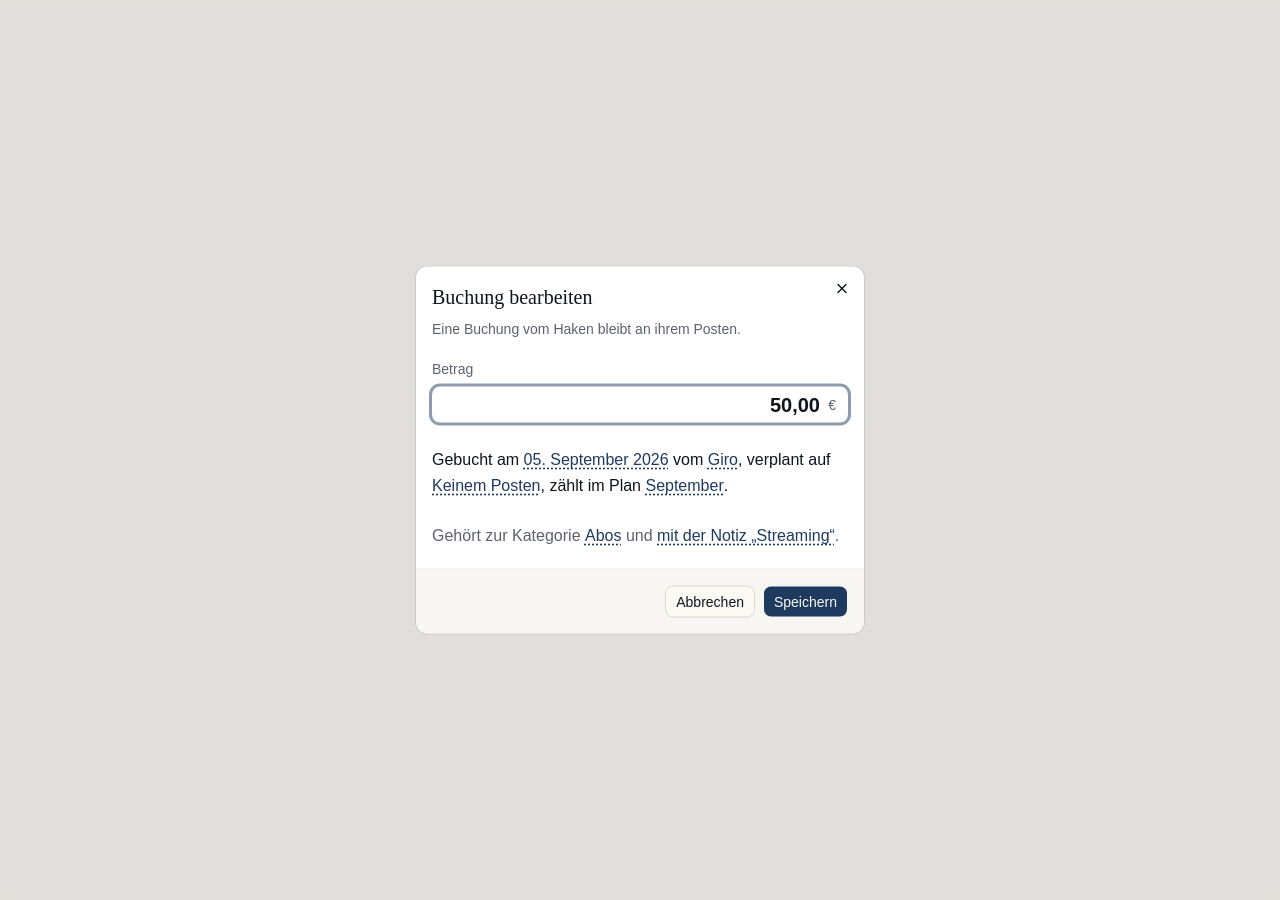
Scenario: BookingDialog edit sentence › picking a position closes its panel and gives the focus back to the word
Click the button "Keinem Posten". click: (486, 486)
box: [430,472,542,498]
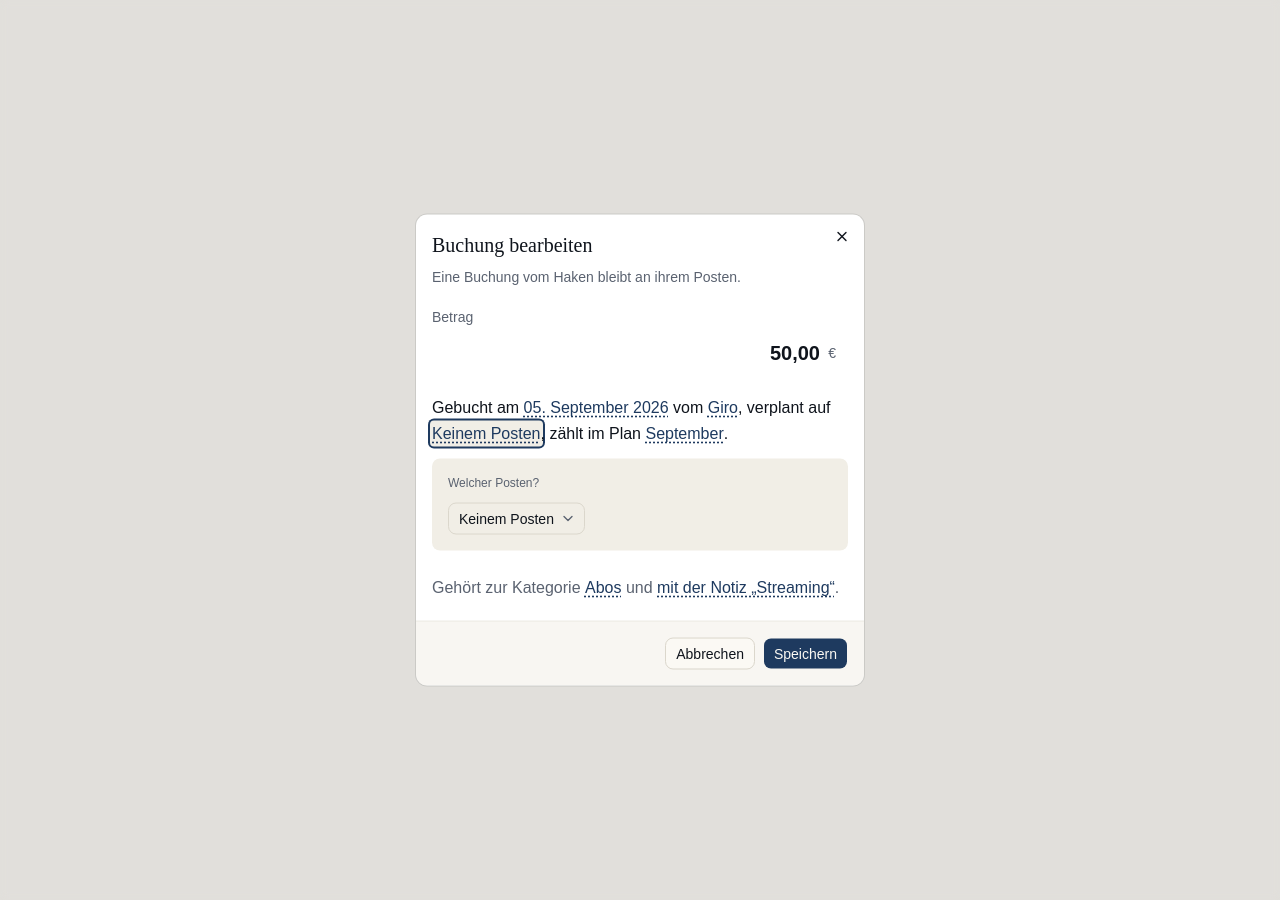
Click the dropdown. click: (516, 518)
box: [448,502,585,534]
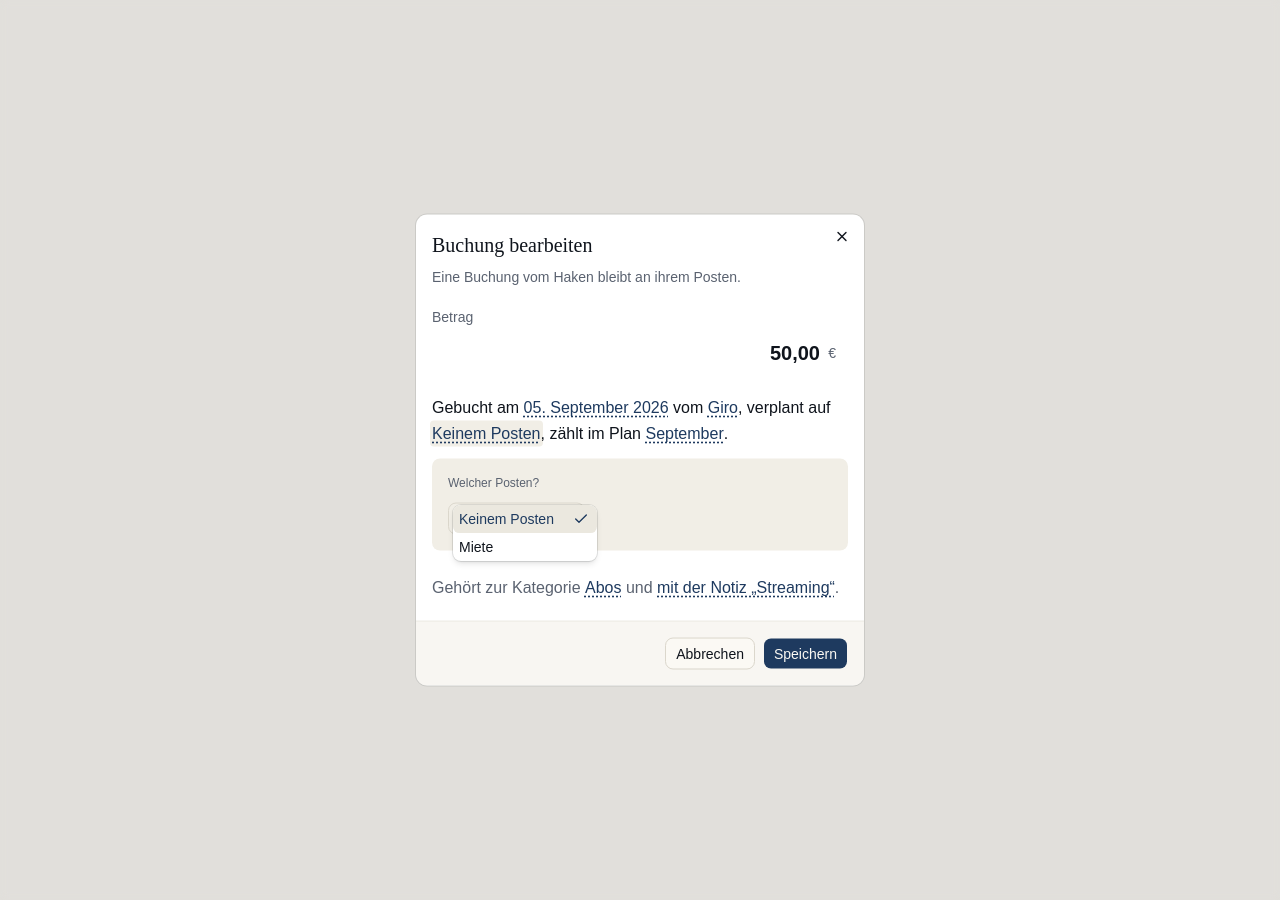
Click the option "Miete". click: (476, 546)
box: [459,538,493,554]
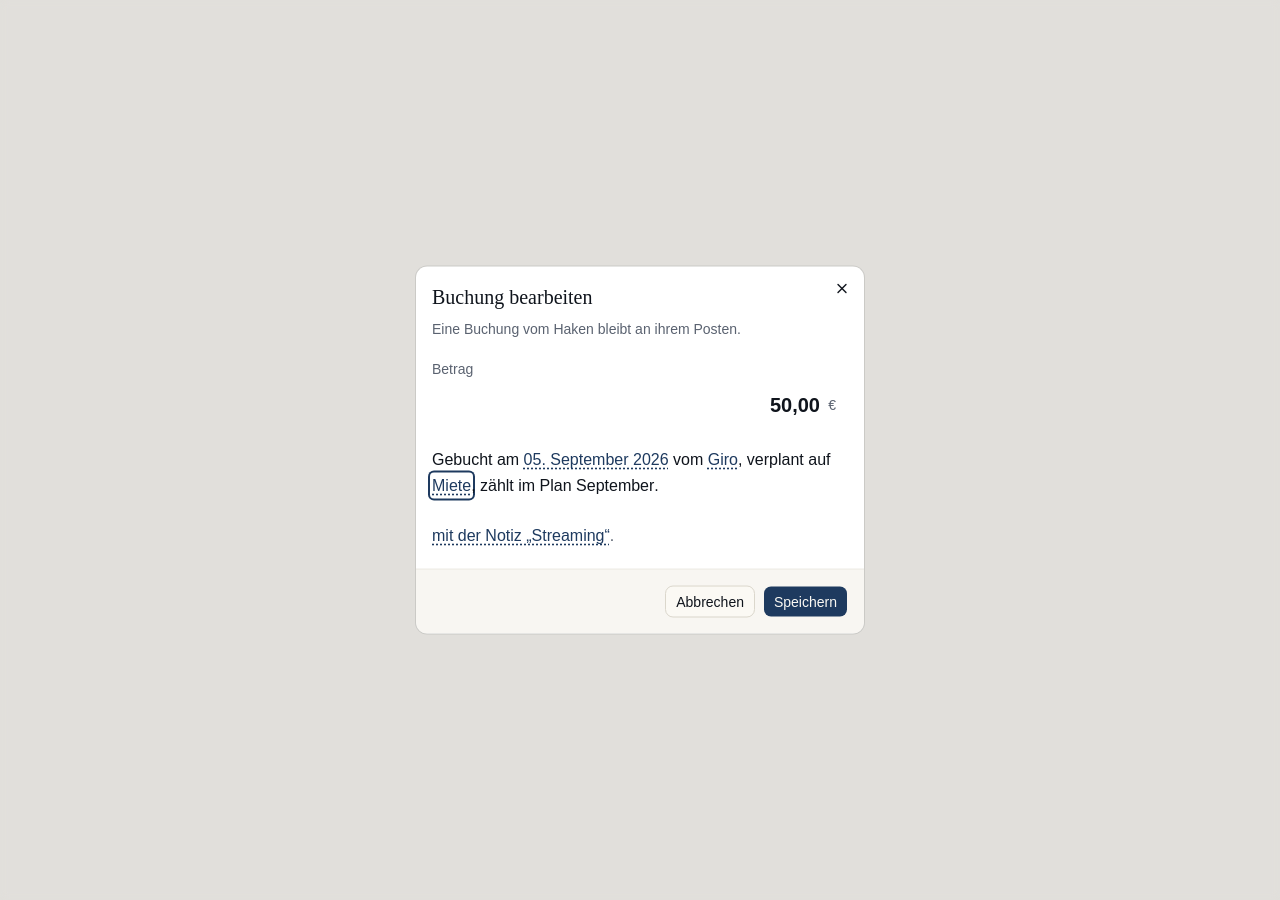
Expected: the text "Welcher Posten?" is gone
